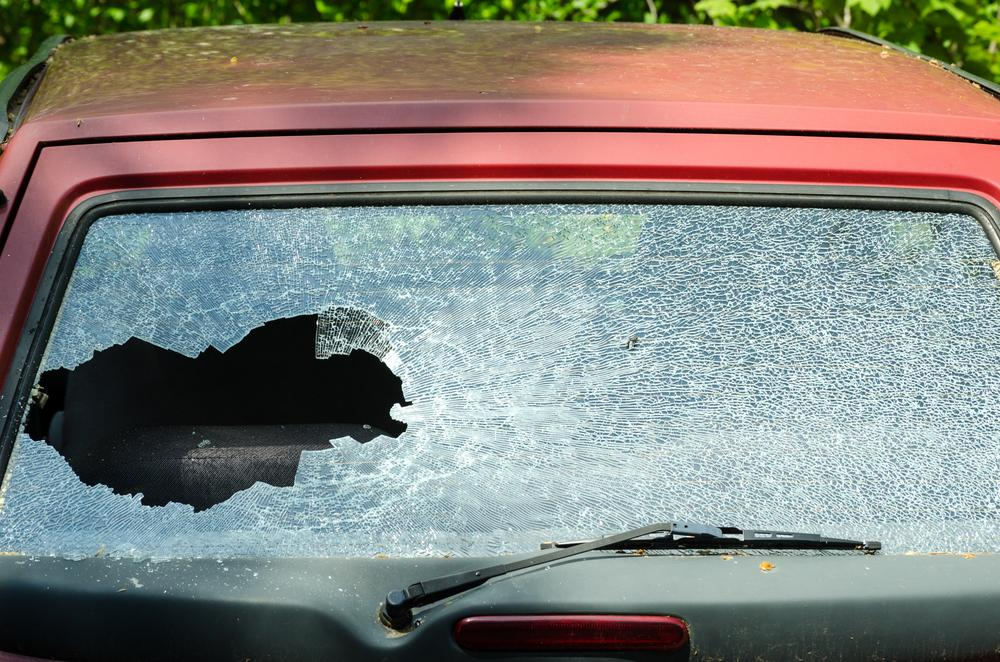glass shatter: (0, 203, 1000, 559)
